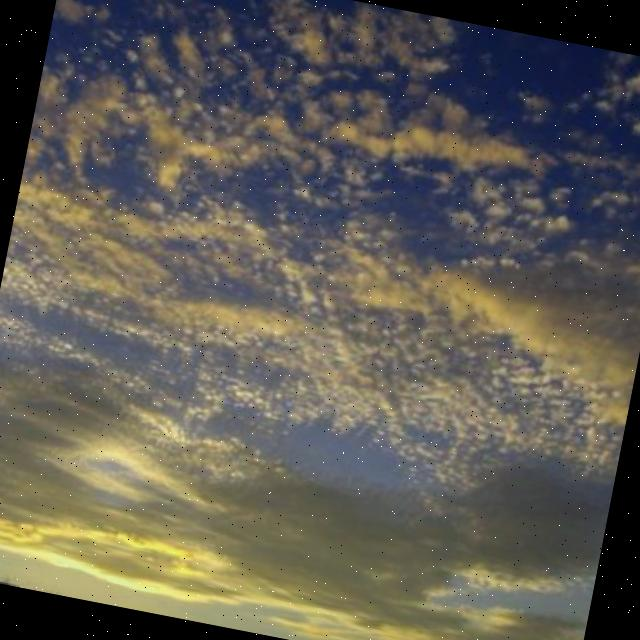Cc: (1, 1, 640, 423)
